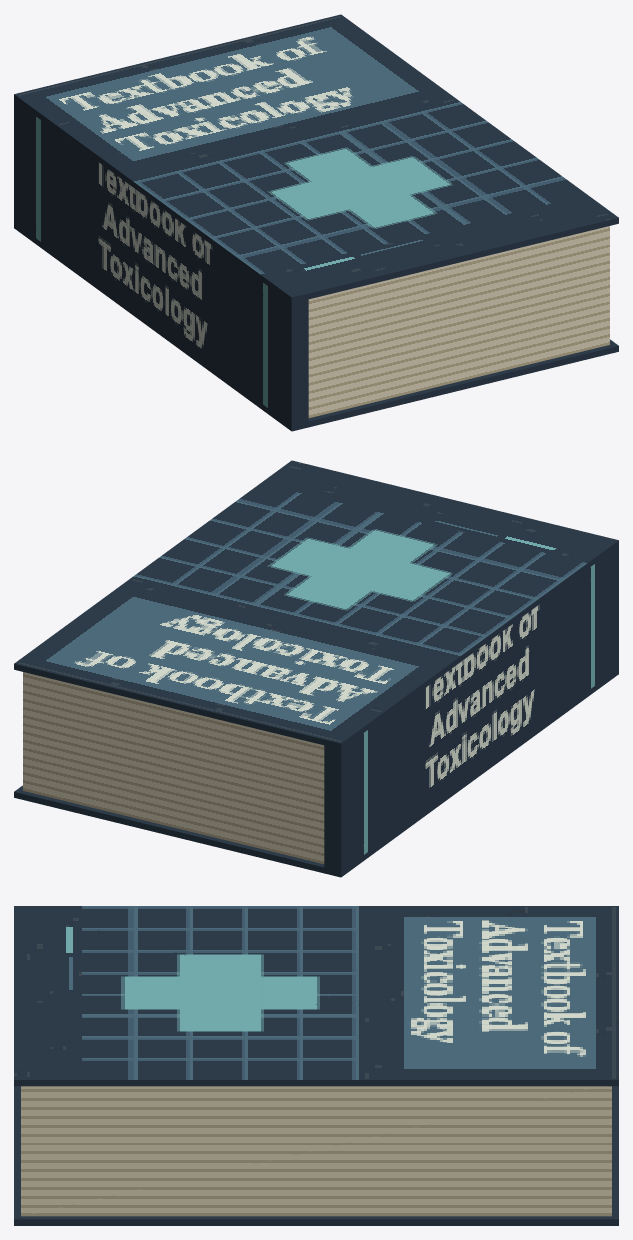
File: textbook_toxicology.glb
3 views of the same model, one above another, from view 1: azimuth 30°, elevation 25°; view 2: azimuth 150°, elevation 25°; view 3: azimuth 270°, elevation 25° (orthographic). The views are drawn at different scales.
Visible parts, largest first — view 1: block_front cover, block_spine, block_page block, block_back cover; view 2: block_front cover, block_spine, block_page block, block_back cover; view 3: block_front cover, block_page block, block_back cover.
Boxes of the visible parts, box(x1,y1,x2,y2) form: block_front cover: box(14, 14, 618, 303); block_spine: box(14, 100, 308, 425); block_page block: box(308, 226, 609, 417); block_back cover: box(14, 222, 618, 431); block_front cover: box(14, 460, 618, 749); block_spine: box(324, 546, 618, 871); block_page block: box(23, 672, 324, 863); block_back cover: box(14, 668, 618, 877); block_front cover: box(14, 906, 618, 1086); block_page block: box(21, 1086, 611, 1216); block_back cover: box(14, 1086, 618, 1225).
Bounding box in the file's own units: 0.1734 × 0.0678 × 0.255.
Materials: 1 (1 with a texture image).
